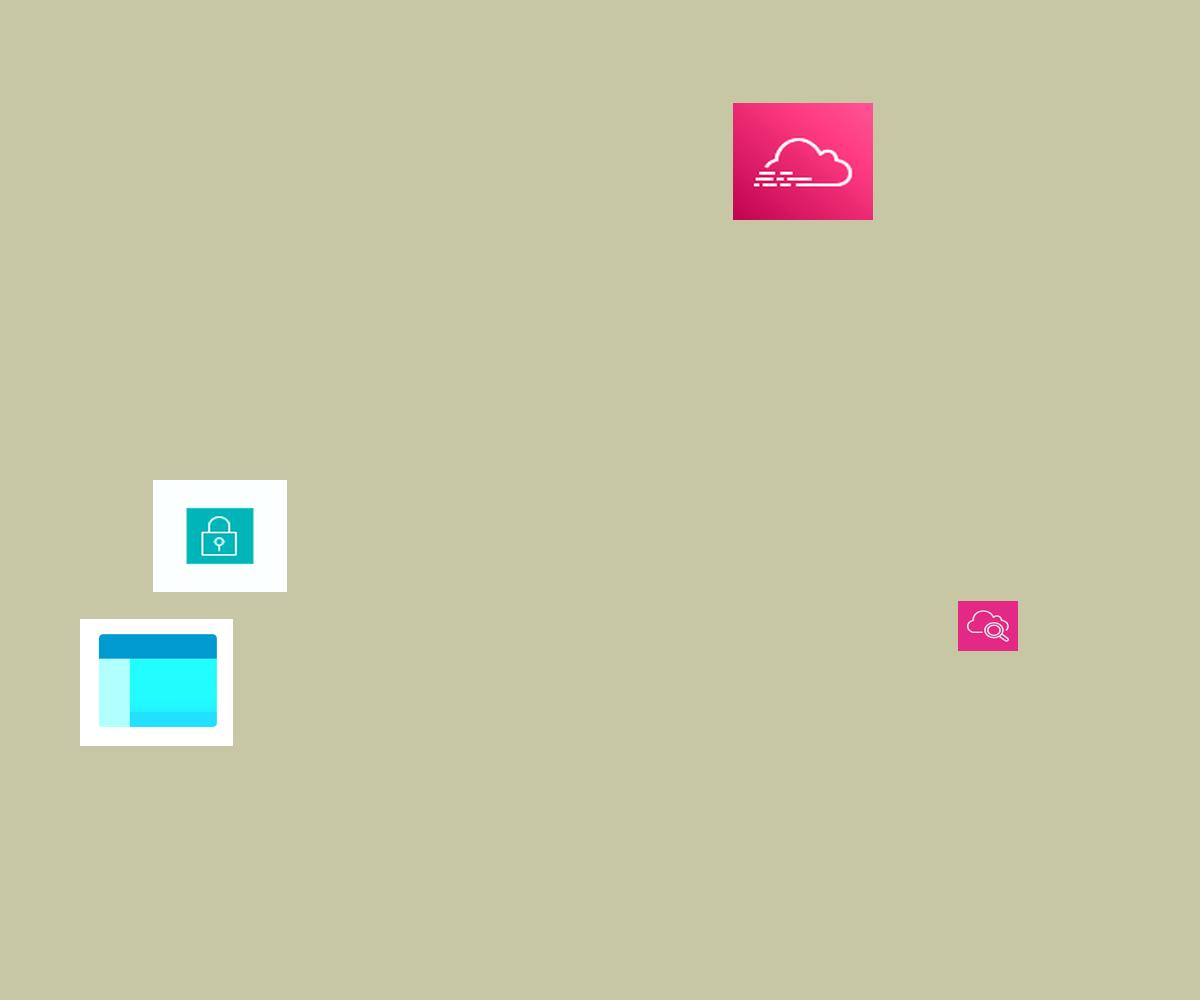AWS-CloudTrail: (733, 103, 873, 220)
AWS-CloudWatch: (958, 601, 1018, 651)
AWS-Private-subnet: (153, 480, 287, 592)
Azure_management-portal: (80, 619, 233, 746)
